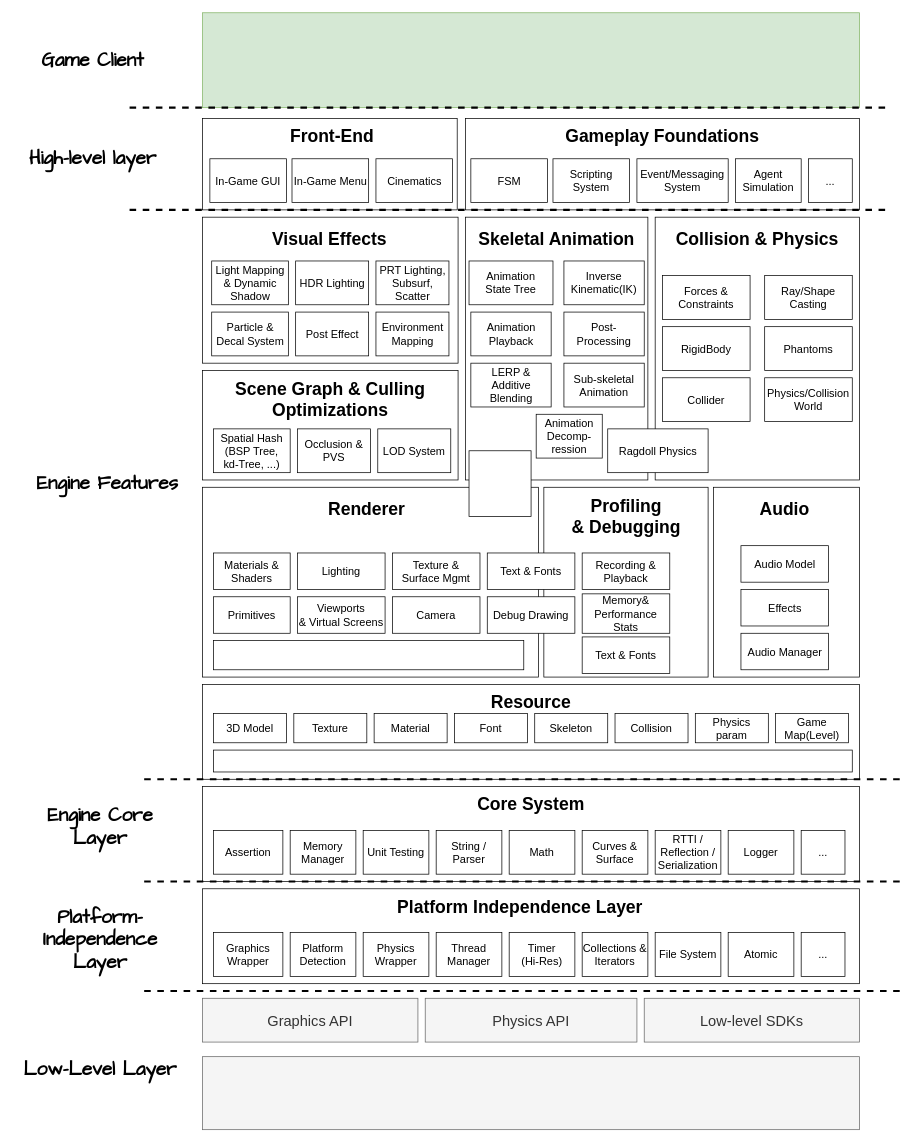
The diagram is 918 pixels wide and 1142 high, and some of its shapes have lost their labels. Each missing label, with the centre of its shape:
"Game-Specified Systems (Client)" goes at point 531,60.
"Graphics Device Interface" goes at point 368,655.
"OS / Hardware" goes at point 531,1093.
"Resource Manager(ECS)" goes at point 532,760.
"Skeletal Mesh Rendering" goes at point 499,483.
